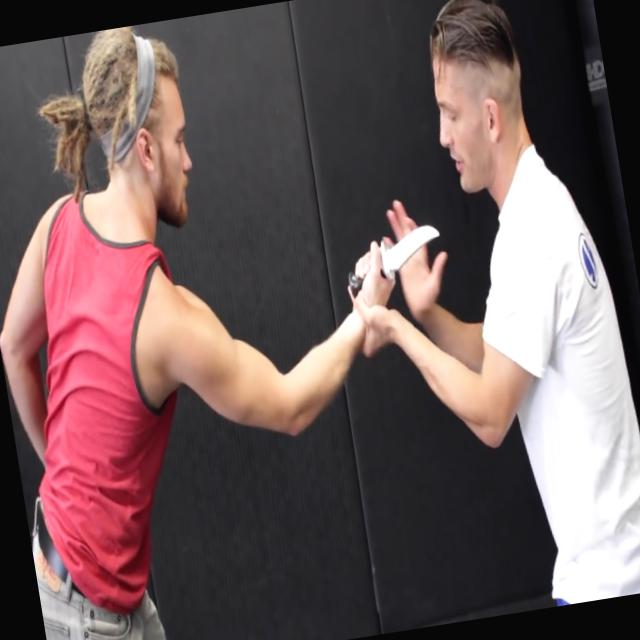knife: (332, 206, 453, 306)
